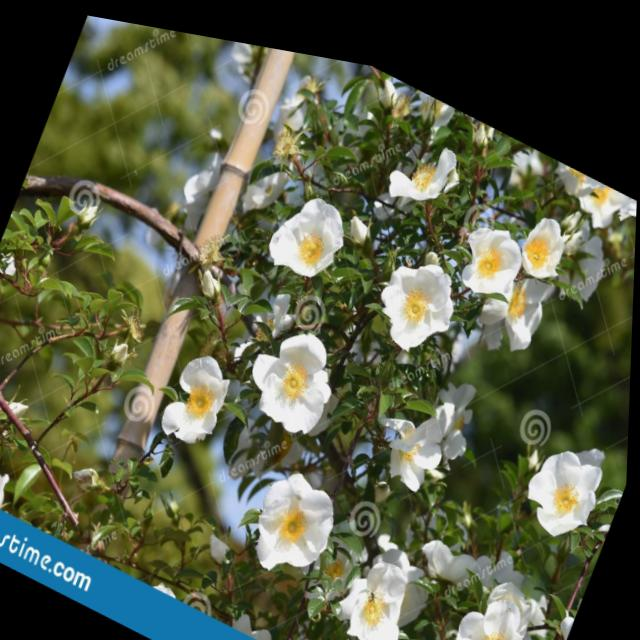Flower: (239, 439, 354, 584), (244, 296, 358, 438), (372, 217, 484, 359), (518, 401, 623, 542), (471, 224, 572, 356), (331, 514, 433, 640), (261, 160, 366, 280), (363, 367, 466, 488), (155, 332, 247, 458), (372, 95, 473, 209), (443, 551, 547, 640), (545, 186, 627, 296), (457, 188, 540, 296), (422, 352, 498, 459), (510, 181, 577, 266), (0, 376, 32, 485), (379, 619, 457, 640)
